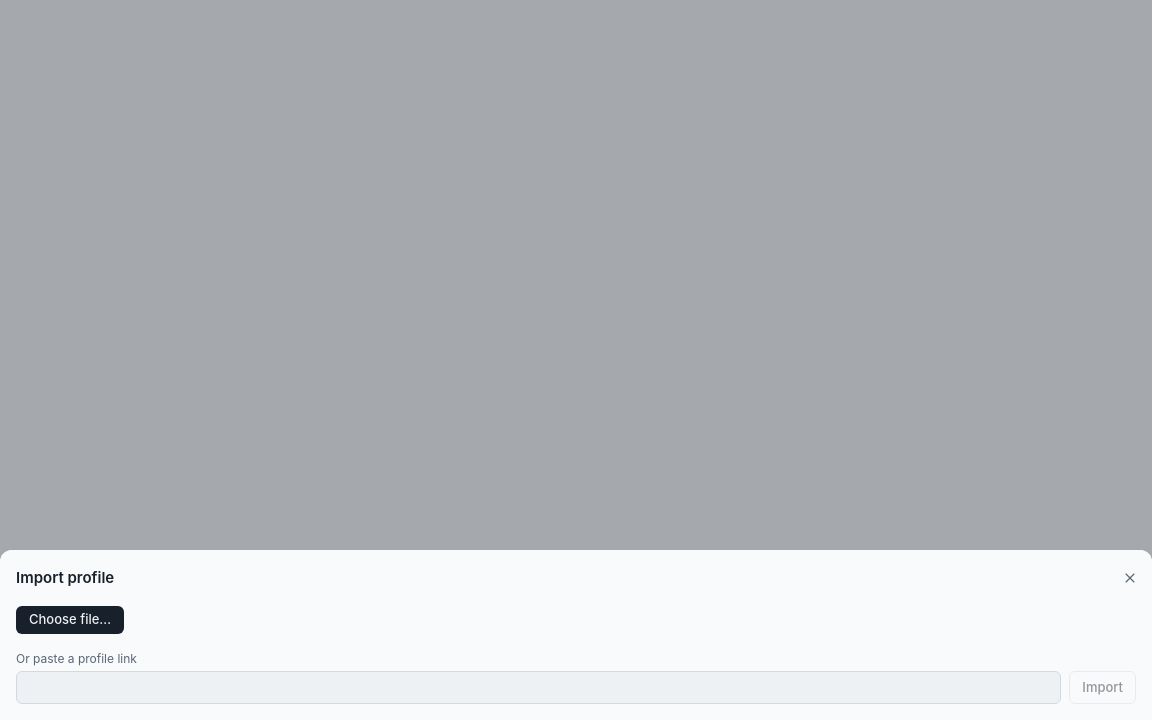
Test: ImportDialog › shows other errors without offering to replace
This screenshot has width=1152, height=720.
Step 1. Click the button "Choose file…" → point(70, 620), box x1=16 y1=606 x2=124 y2=634
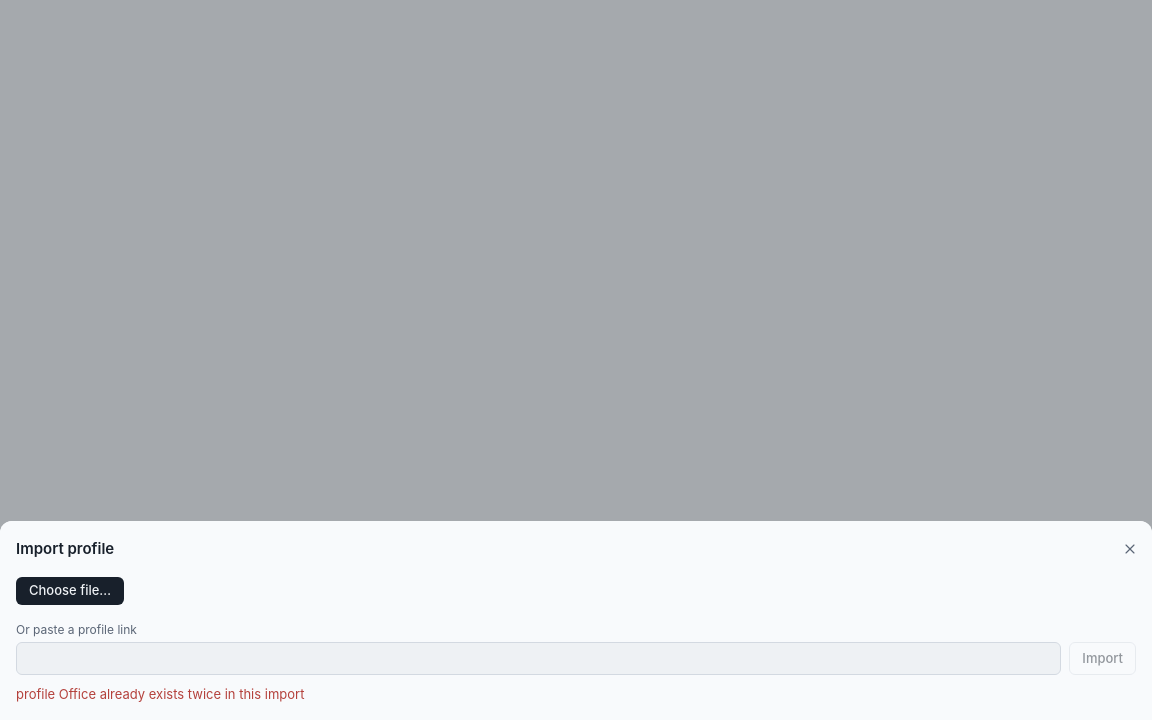
expect the message reads "profile Office already exists twice in this import": met, box x1=16 y1=686 x2=304 y2=702
